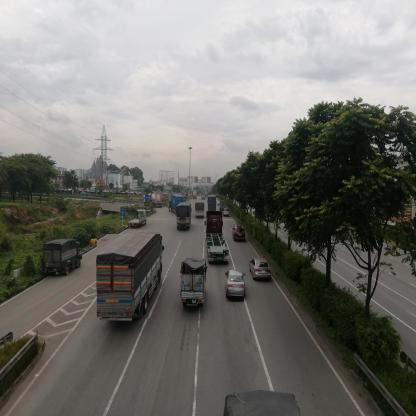car: (254, 260, 271, 281), (236, 225, 246, 240), (225, 211, 232, 217)
container: (207, 213, 224, 260), (145, 194, 164, 207), (170, 196, 187, 209), (209, 196, 217, 213)
truck: (98, 235, 163, 319), (44, 239, 82, 277), (182, 262, 207, 305), (226, 271, 245, 303), (178, 204, 192, 230), (129, 210, 148, 229), (196, 204, 205, 217)
